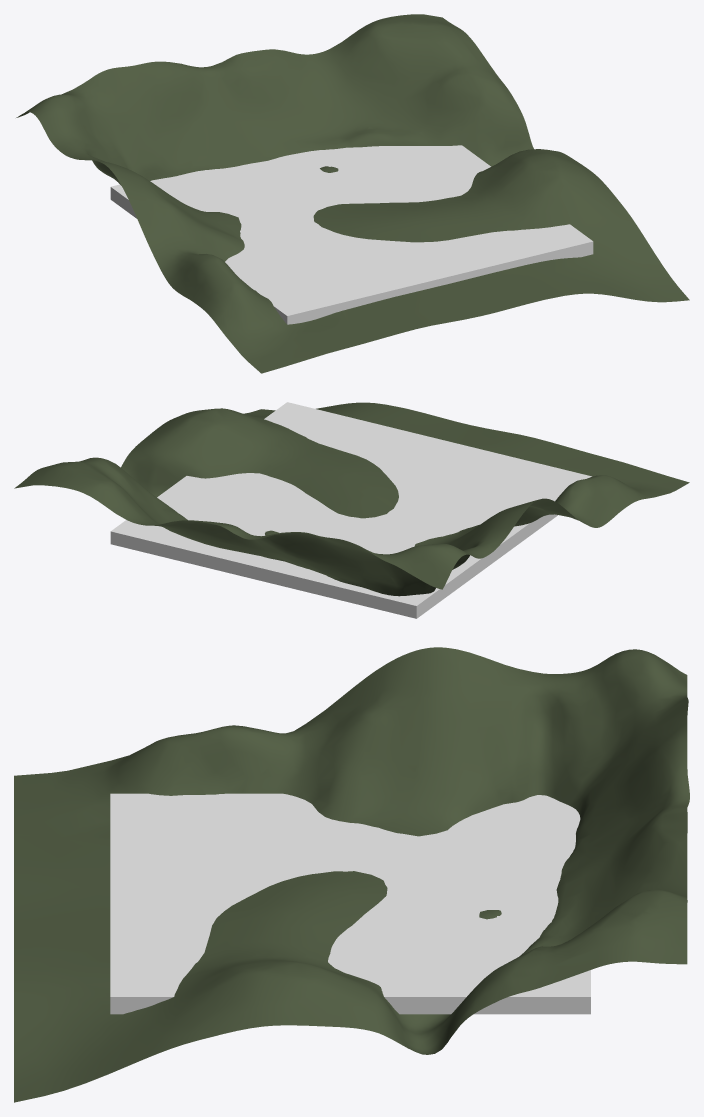
The model's file is landscape_test.glb.
3 renders of one model, top to bottom at view 1: azimuth 30°, elevation 25°; view 2: azimuth 150°, elevation 25°; view 3: azimuth 270°, elevation 25°, orthographic. The views are drawn at different scales.
Visible parts, largest first — view 1: Landscape, 25m-noimp; view 2: Landscape, 25m-noimp; view 3: Landscape, 25m-noimp.
Boxes of the visible parts, left/top/right/bottom form: Landscape: left=16, top=14, right=689, bottom=373; 25m-noimp: left=110, top=145, right=593, bottom=324; Landscape: left=14, top=402, right=689, bottom=596; 25m-noimp: left=110, top=402, right=591, bottom=618; Landscape: left=14, top=647, right=689, bottom=1102; 25m-noimp: left=110, top=793, right=590, bottom=1014.
Size of what is drawn, in the model's own units: 35.02 by 10.25 by 35.14.
